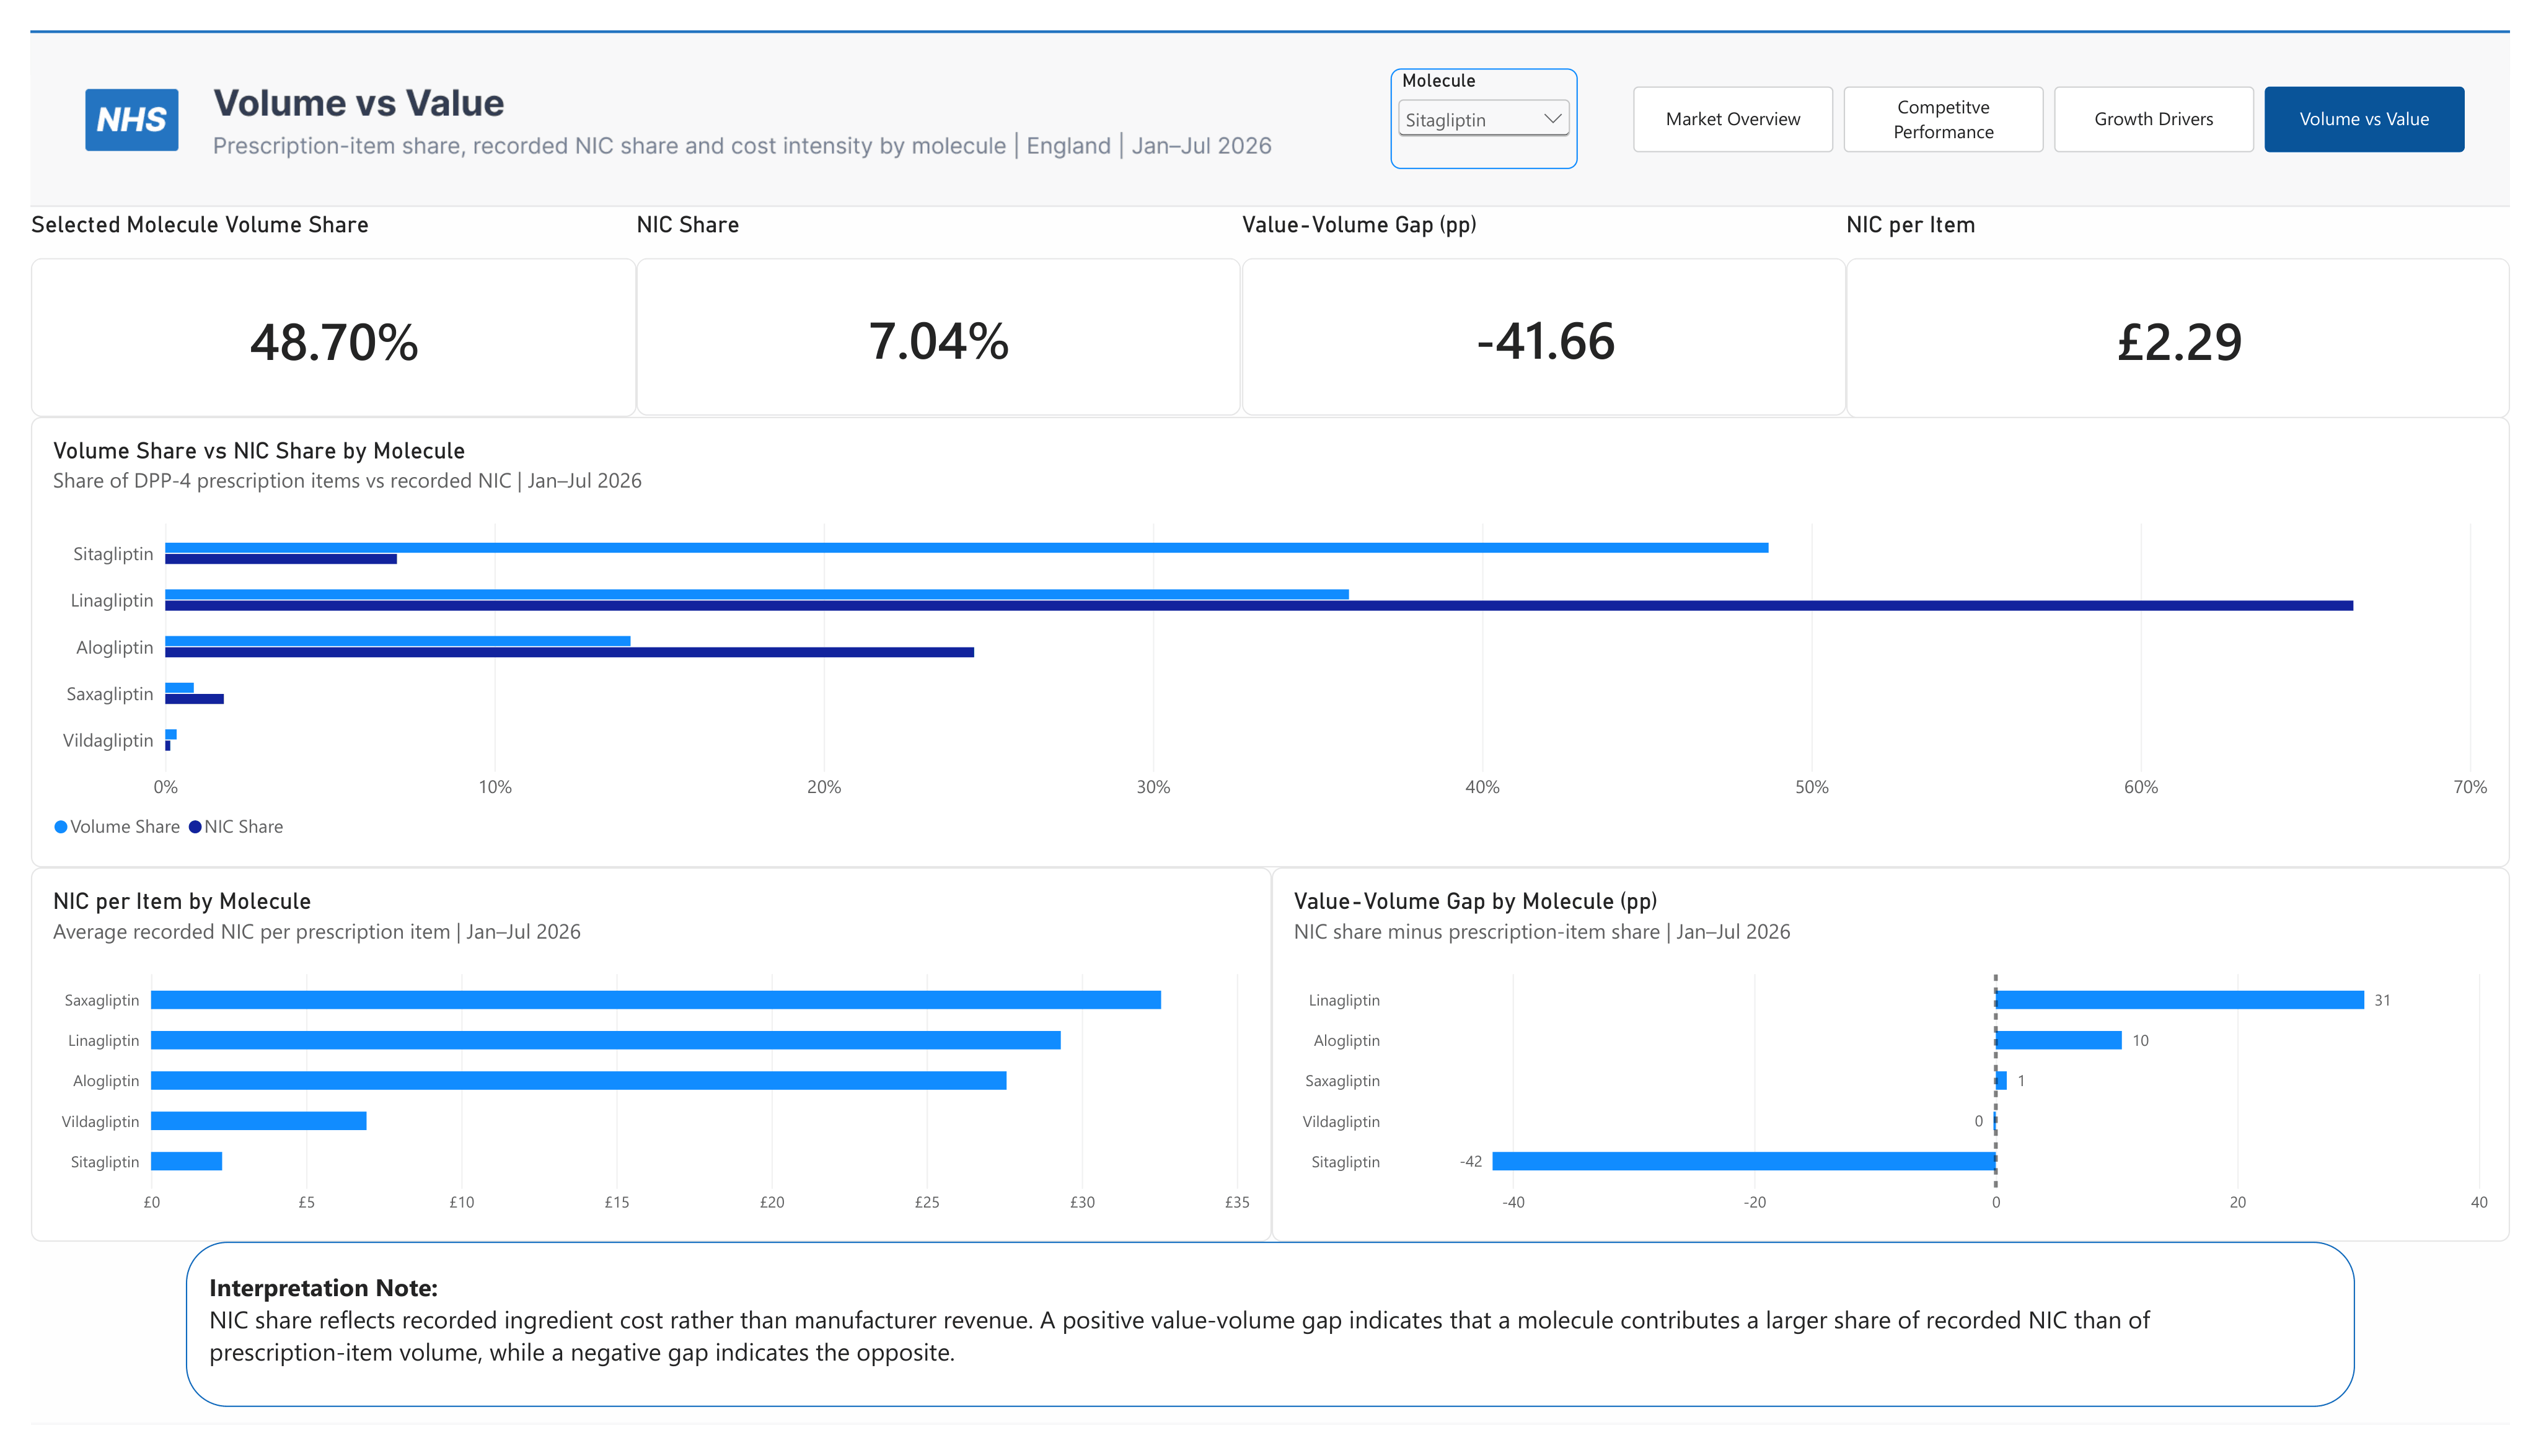

What the dashboard file says about the page in this screenshot:
{"tool":"powerbi","page":{"name":"Volume vs Value","canvas":[1920,1080],"ordinal":3},"visuals":[{"type":"cardVisual","title":"Selected Molecule Volume Share","fields":{"Data":["Measure Table.Volume Share"]},"box":[0,139.3,468.7,159.3],"z":0},{"type":"shape","box":[120,938,1680,128],"z":0,"group":"g1"},{"type":"slicer","title":"Slicer","fields":{"Values":["Dim_Chemical.Molecule"]},"box":[1053.2,29,144.8,77.8],"z":1000},{"type":"textbox","box":[138.1,959.7,1596.1,95.9],"z":1000,"group":"g1"},{"type":"cardVisual","title":"NIC Share","fields":{"Data":["Measure Table.NIC Share"]},"box":[468.8,138.7,468.7,159.3],"z":2000},{"type":"cardVisual","title":"Value-Volume Gap (pp)","fields":{"Data":["Measure Table.Value-Volume Gap (pp)"]},"box":[937.5,138.7,468.7,159.3],"z":3000},{"type":"cardVisual","title":"NIC per Item","fields":{"Data":["Measure Table.NIC per Item"]},"box":[1406.1,139.3,513.9,161.1],"z":4000},{"type":"clusteredBarChart","title":"Volume Share vs NIC Share by Molecule","fields":{"Category":["Dim_Chemical.Molecule"],"Y":["Measure Table.Volume Share","Measure Table.NIC Share"]},"box":[0,298.8,1920,349.6],"z":5000},{"type":"clusteredBarChart","title":"NIC per Item by Molecule","fields":{"Category":["Dim_Chemical.Molecule"],"Y":["Measure Table.NIC per Item"]},"box":[0,648.5,961,289.1],"z":6000},{"type":"clusteredBarChart","title":"Value-Volume Gap by Molecule (pp)","fields":{"Category":["Dim_Chemical.Molecule"],"Y":["Measure Table.Value-Volume Gap (pp)"]},"box":[961,648.5,959.1,289.5],"z":7000},{"type":"group","id":"g1","title":"Group 1","box":[120,938,1680,128],"z":8000},{"type":"pageNavigator","box":[1241.4,43.4,646,50.7],"z":8001}]}

Visuals, with their boxes on the page's 1920x1080 design canvas (x1, y1, x2, y2). These are canvas units, not pixel positions in the 2541x1456 screenshot, which may show the page scaled, cropped or inside an application window:
"Selected Molecule Volume Share" cardVisual: box=[0, 139, 469, 299]
shape: box=[120, 938, 1800, 1066]
"Slicer" slicer: box=[1053, 29, 1198, 107]
textbox: box=[138, 960, 1734, 1056]
"NIC Share" cardVisual: box=[469, 139, 938, 298]
"Value-Volume Gap (pp)" cardVisual: box=[938, 139, 1406, 298]
"NIC per Item" cardVisual: box=[1406, 139, 1920, 300]
"Volume Share vs NIC Share by Molecule" clusteredBarChart: box=[0, 299, 1920, 648]
"NIC per Item by Molecule" clusteredBarChart: box=[0, 648, 961, 938]
"Value-Volume Gap by Molecule (pp)" clusteredBarChart: box=[961, 648, 1920, 938]
"Group 1" group: box=[120, 938, 1800, 1066]
pageNavigator: box=[1241, 43, 1887, 94]
